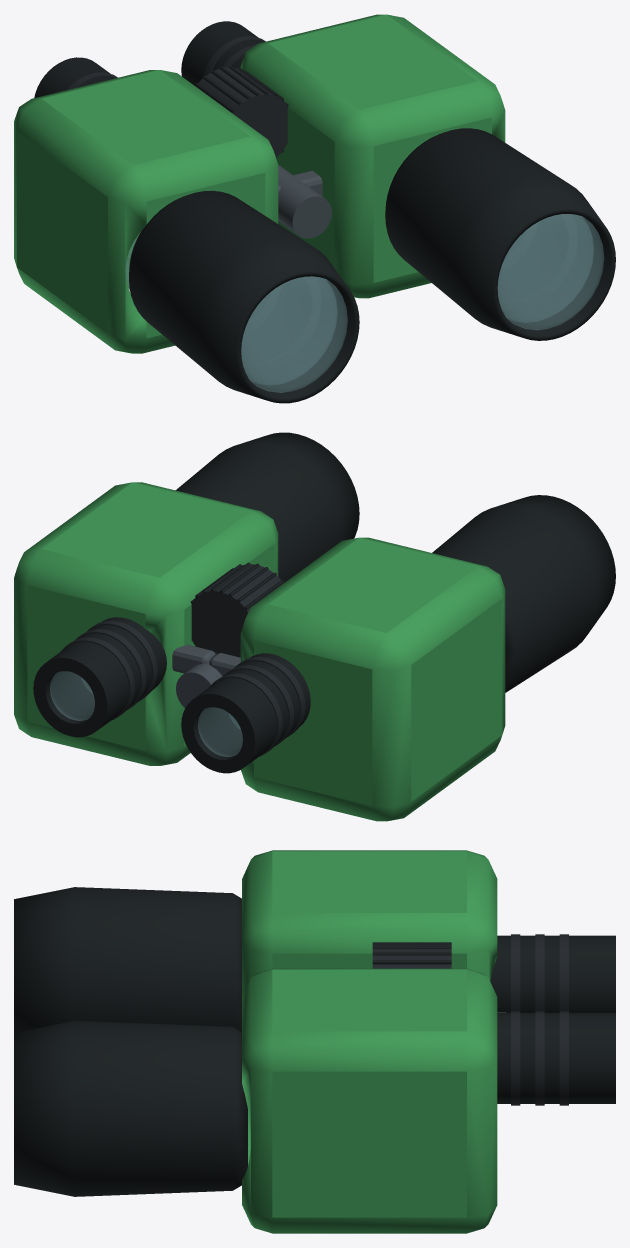
The model's file is 10_Porro_Binoculars.glb.
3 views of the same model, one above another, from view 1: azimuth 30°, elevation 25°; view 2: azimuth 150°, elevation 25°; view 3: azimuth 270°, elevation 25° (orthographic). The views are drawn at different scales.
Parts seen in each view (by area): view 1: 01_rubber_armour_and_body, 05_objective_lens_doublets, 02_hinge_bridge_and_focus_wheel, 07_internal_baffles_and_focus_rods; view 2: 01_rubber_armour_and_body, 02_hinge_bridge_and_focus_wheel, 06_eyepiece_lens_stacks; view 3: 01_rubber_armour_and_body, 02_hinge_bridge_and_focus_wheel.
Part boxes in pixels (x1=…): 01_rubber_armour_and_body: x1=14, y1=14, x2=615, y2=403; 05_objective_lens_doublets: x1=241, y1=214, x2=604, y2=392; 02_hinge_bridge_and_focus_wheel: x1=195, y1=65, x2=331, y2=238; 07_internal_baffles_and_focus_rods: x1=243, y1=214, x2=577, y2=372; 01_rubber_armour_and_body: x1=14, y1=432, x2=615, y2=821; 02_hinge_bridge_and_focus_wheel: x1=172, y1=562, x2=283, y2=707; 06_eyepiece_lens_stacks: x1=50, y1=671, x2=242, y2=756; 01_rubber_armour_and_body: x1=14, y1=850, x2=615, y2=1233; 02_hinge_bridge_and_focus_wheel: x1=372, y1=942, x2=506, y2=1012.
Size of the model in its own units: 0.162 by 0.073 by 0.198.
